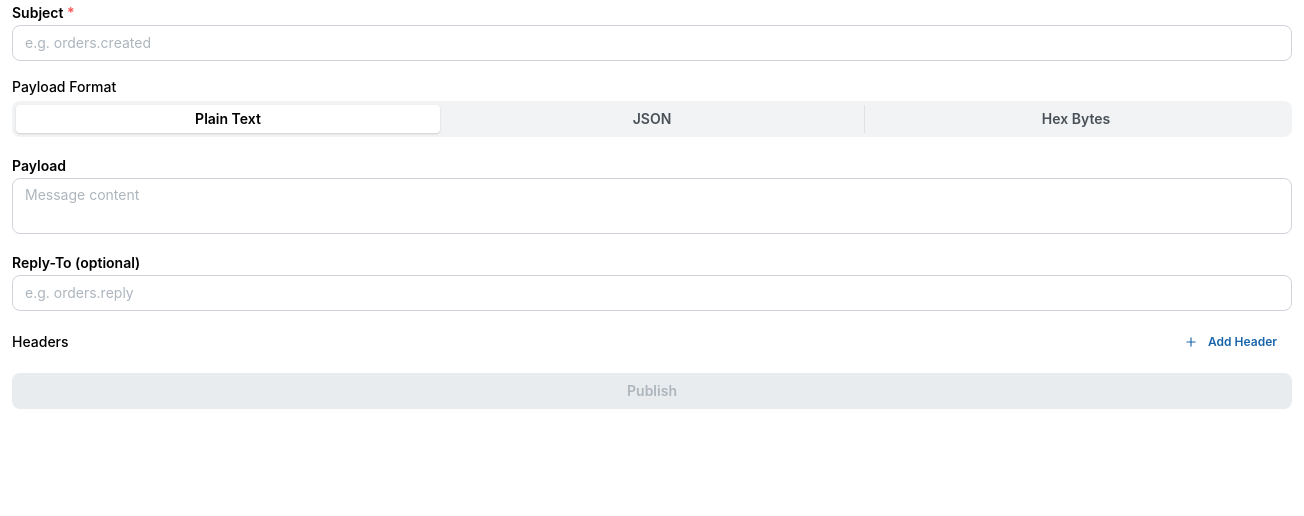
Test: shows error notification after mutation failure with fields preserved
Type "test.subject" into the field labelled "Subject *" at (652, 43), box [12,25,1292,61]
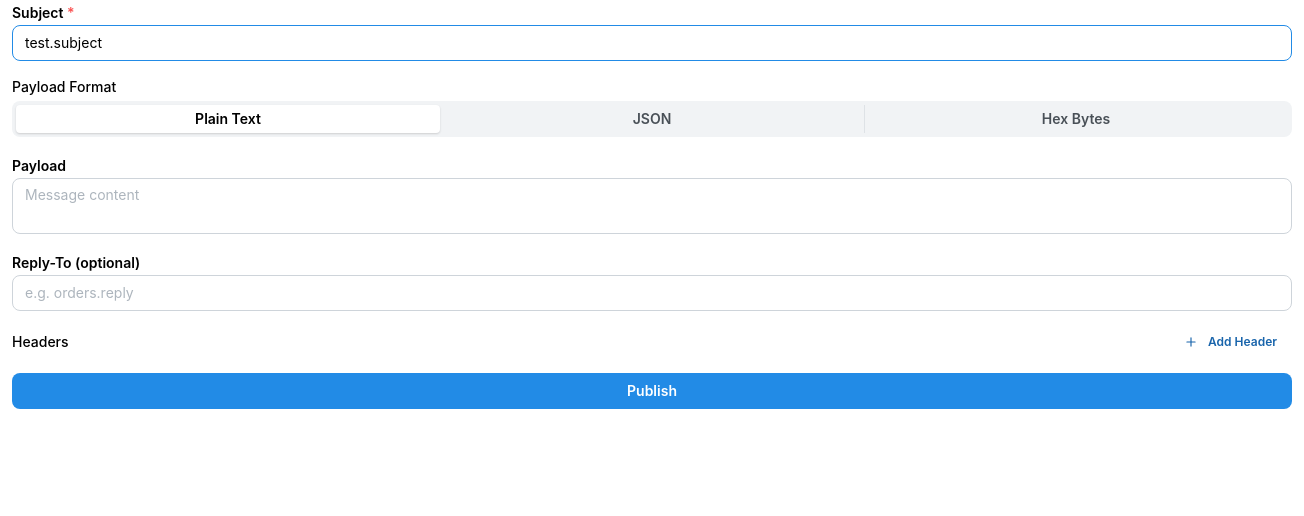
Click the button "Publish" at (652, 391), box [12,373,1292,409]
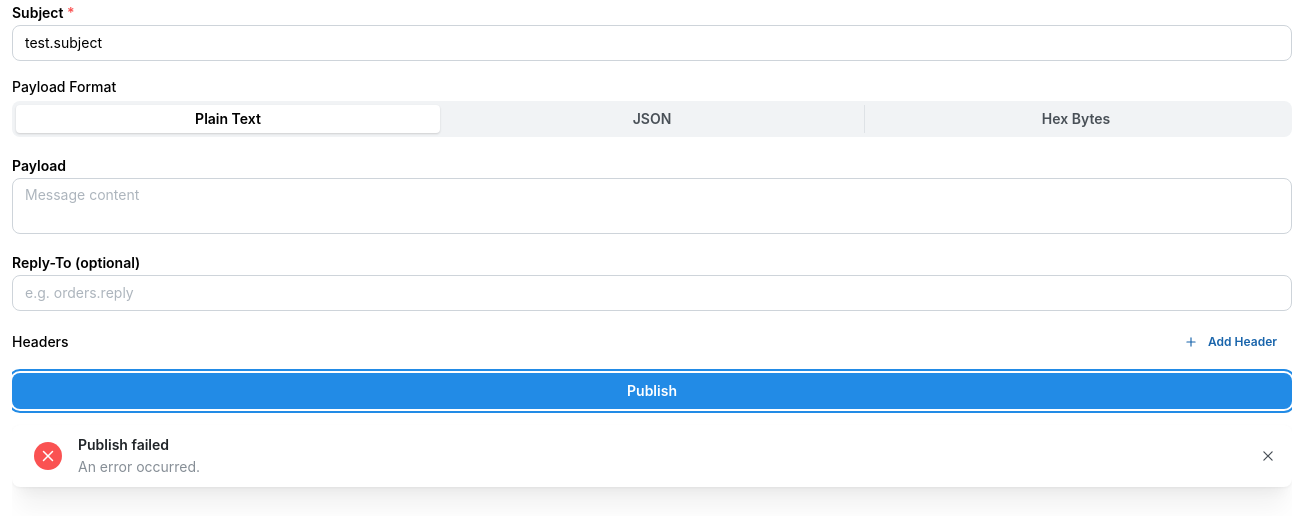
Now the text "Publish failed" is shown, box [78,436,169,453]
